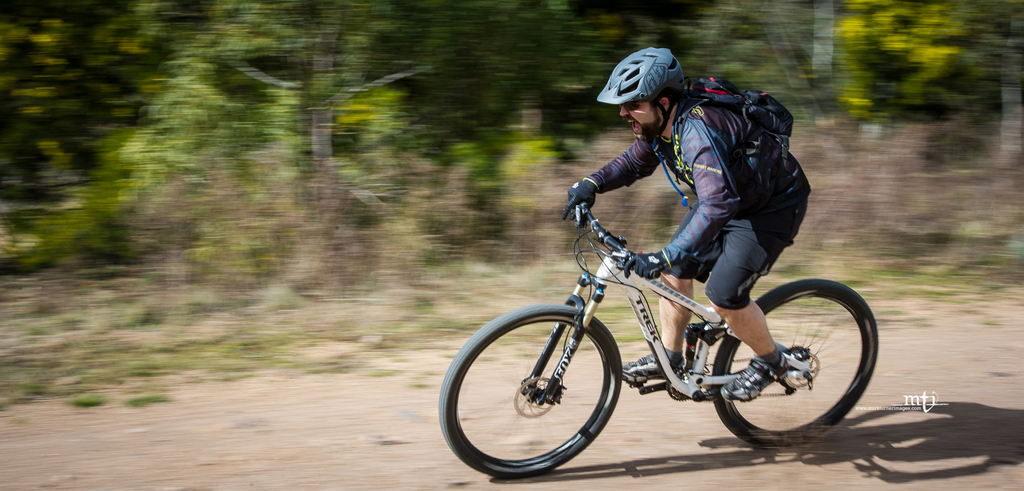Bike: (397, 183, 922, 479)
